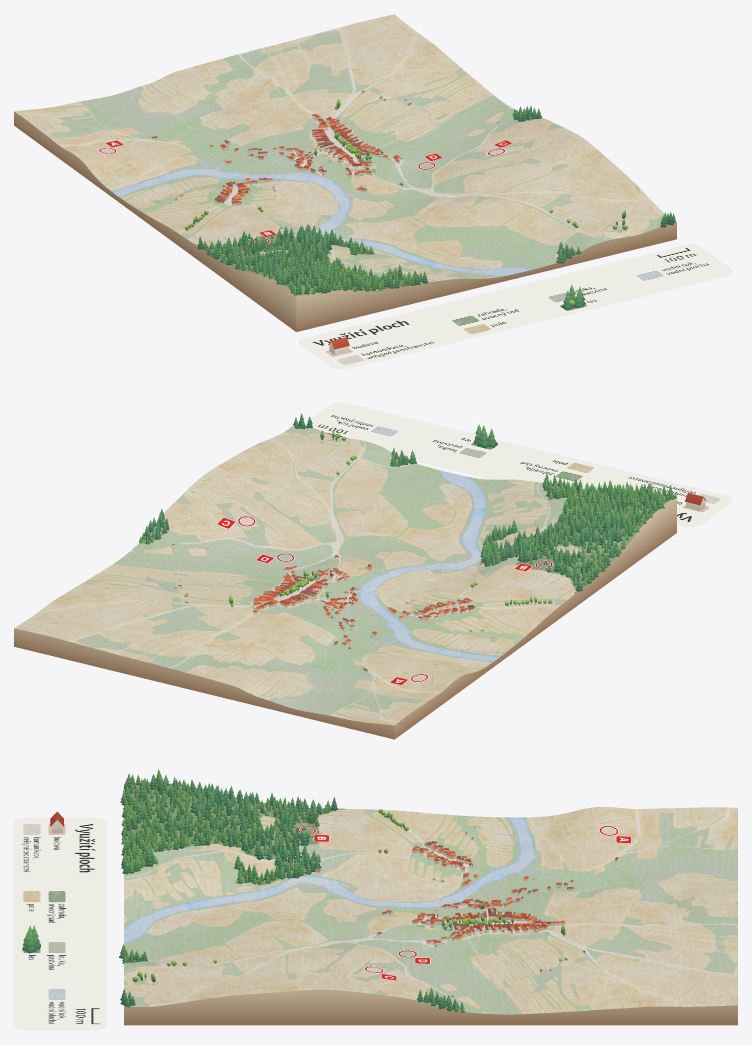
Rendered from Frymburk_sada1_CO.glb.
3 renders of one model, top to bottom at view 1: azimuth 30°, elevation 25°; view 2: azimuth 150°, elevation 25°; view 3: azimuth 270°, elevation 25°, orthographic. The views are drawn at different scales.
Visible parts, largest first — view 1: DMR_CO, legenda_panel, stromy_CO, budovy_CO, legenda_objekty; view 2: DMR_CO, legenda_panel, stromy_CO, budovy_CO, legenda_objekty; view 3: DMR_CO, legenda_panel, stromy_CO, budovy_CO, legenda_objekty.
Boxes of the visible parts, bbox=[...] form: DMR_CO: bbox=[14, 14, 676, 331]; legenda_panel: bbox=[299, 244, 732, 369]; stromy_CO: bbox=[184, 99, 675, 295]; budovy_CO: bbox=[151, 90, 621, 231]; legenda_objekty: bbox=[328, 284, 585, 354]; DMR_CO: bbox=[14, 425, 676, 739]; legenda_panel: bbox=[305, 402, 732, 527]; stromy_CO: bbox=[139, 413, 676, 606]; budovy_CO: bbox=[172, 544, 494, 672]; legenda_objekty: bbox=[474, 424, 706, 510]; DMR_CO: bbox=[124, 782, 737, 1025]; legenda_panel: bbox=[14, 817, 106, 1030]; stromy_CO: bbox=[119, 769, 565, 1012]; budovy_CO: bbox=[315, 826, 618, 997]; legenda_objekty: bbox=[22, 811, 63, 953].
Size of the model in its own units: 1490 by 180 by 2140.
Materials: 12 (6 with a texture image).
